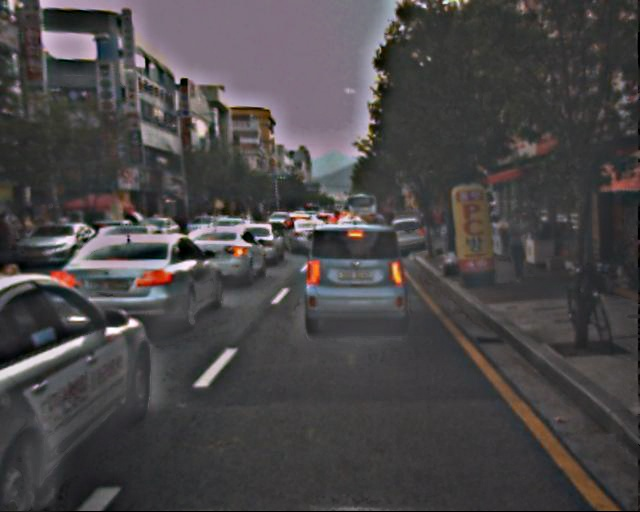person: (504, 210, 536, 288)
